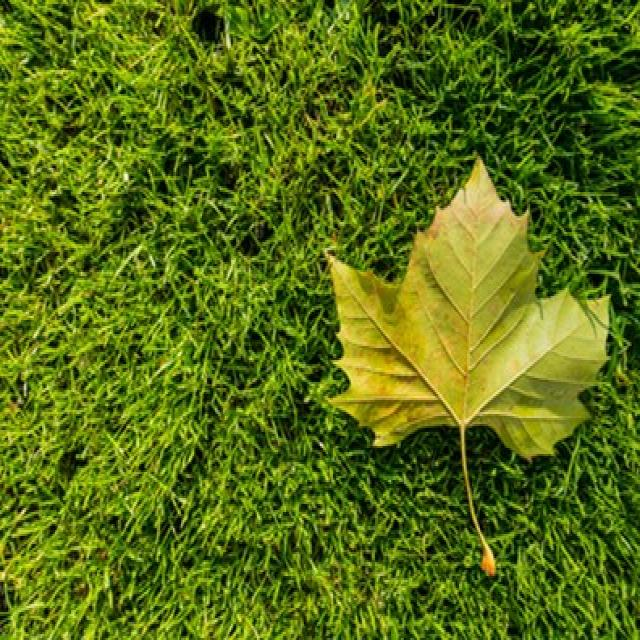green waste: (5, 5, 633, 640)
